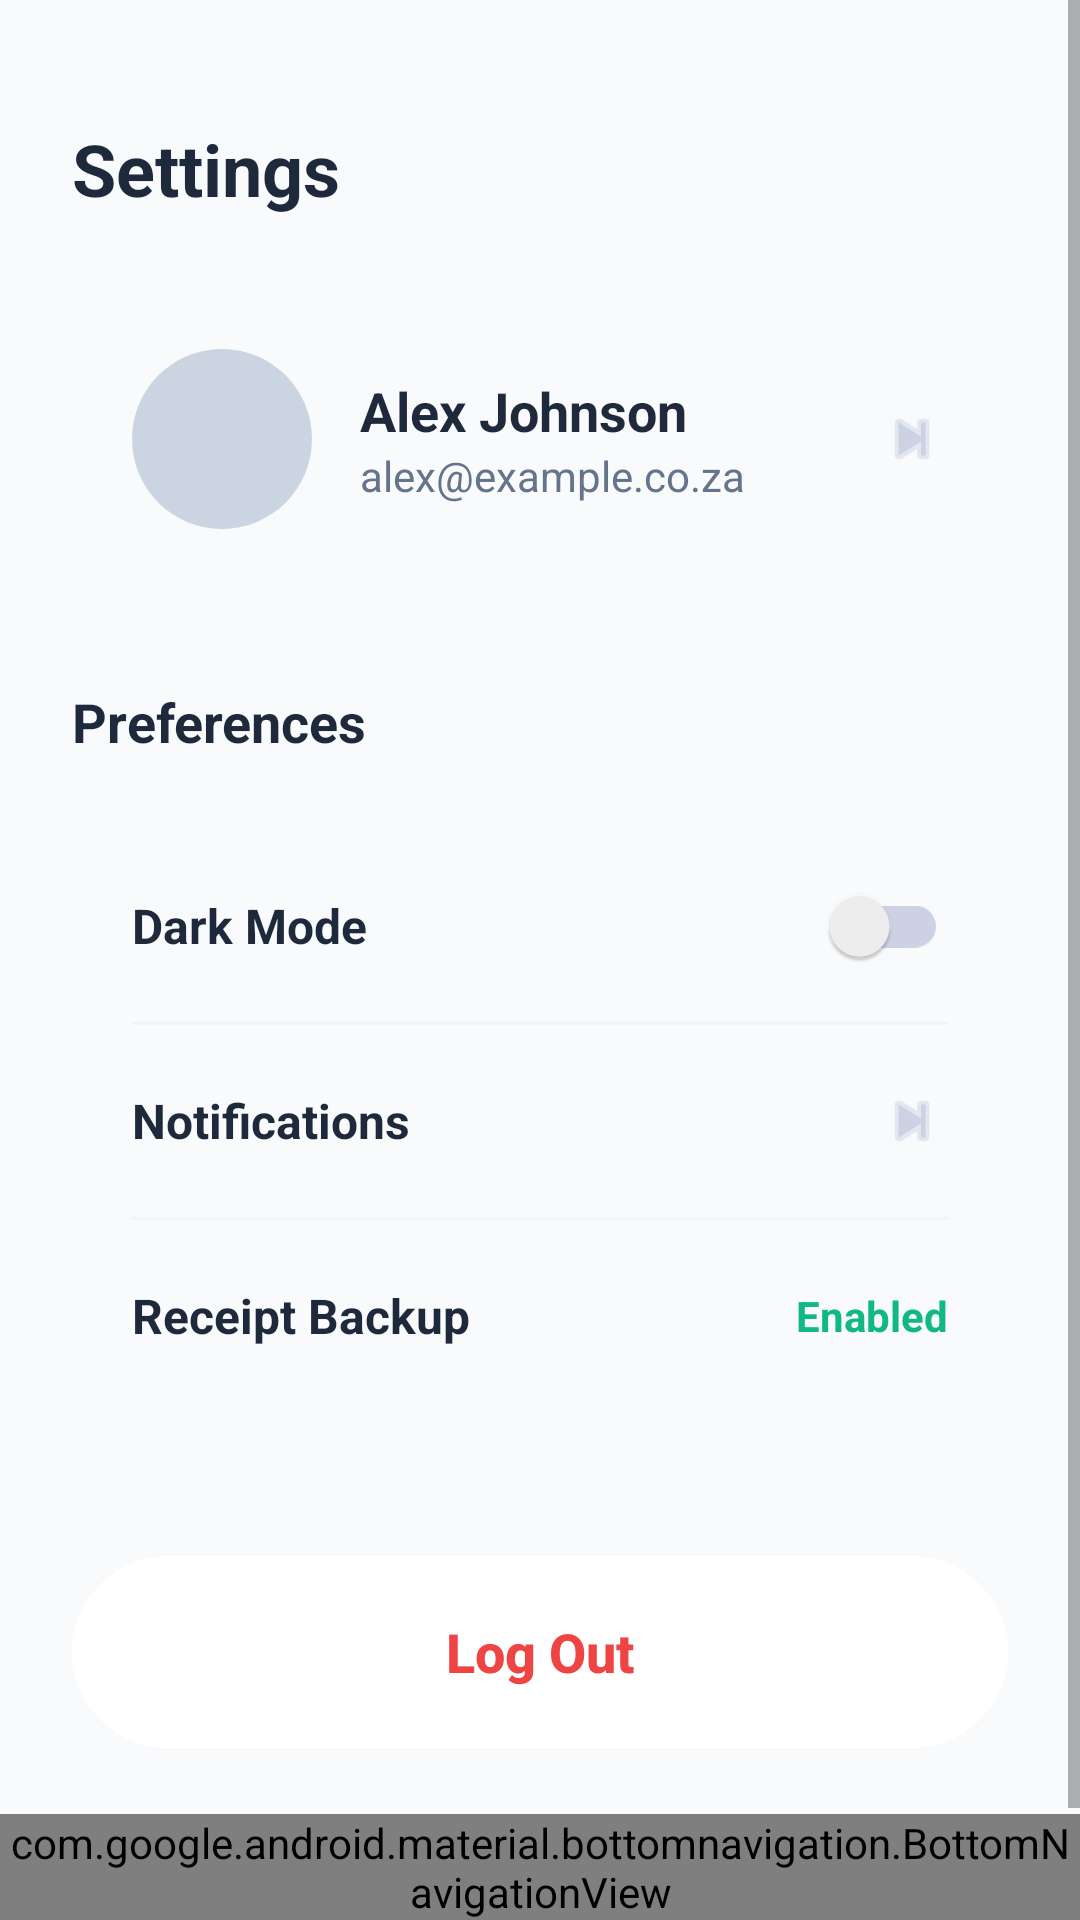

Icon bounding boxes for this 1080*1920 phone screenshot, format (x1, y1, x2, y2):
next: (898, 422, 926, 456), (898, 1104, 926, 1138)
